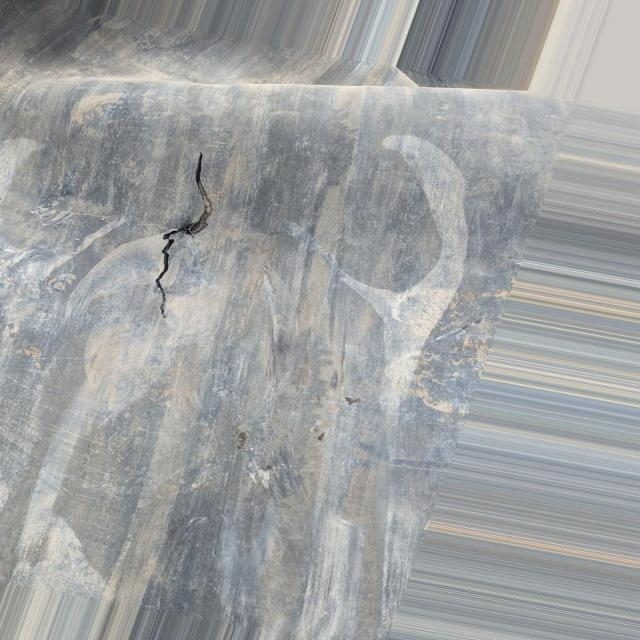Tear: (152, 144, 228, 320)
